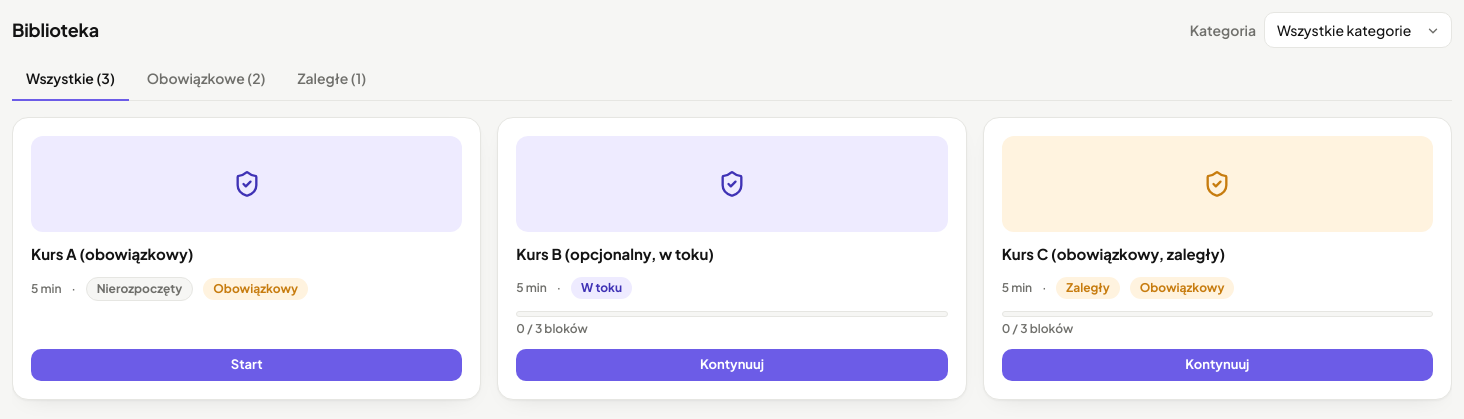
it: CourseLibrary - filtrowanie klienckie po zakładkach › zakładka "Obowiązkowe" pokazuje tylko mandatory=true
Click the tab "Obowiązkowe (2)" at (206, 80), box [133,58,280,101]
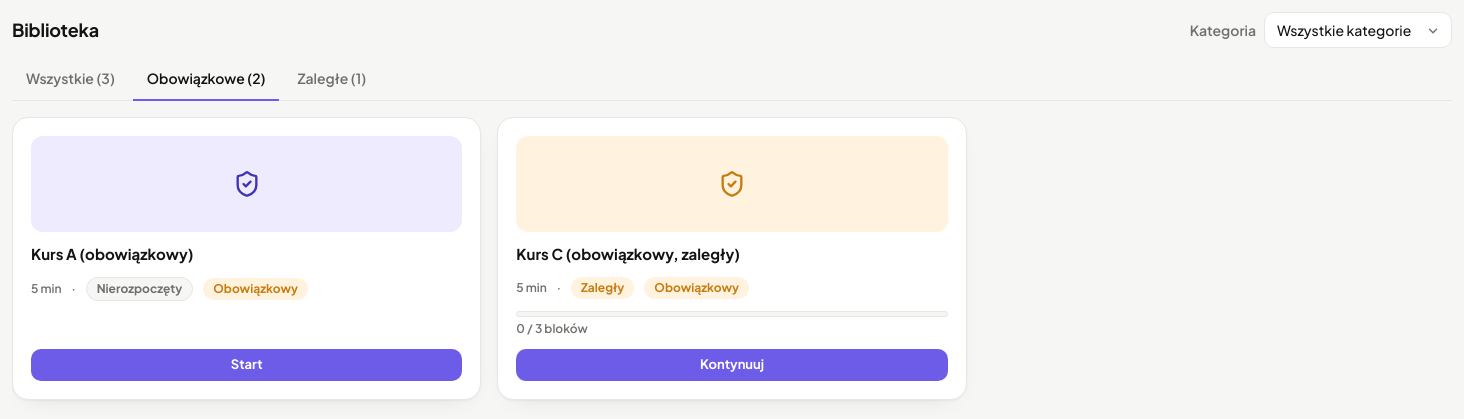
Check: the heading "Kurs A (obowiązkowy)" is shown, box [31,244,193,263]
Check: the heading "Kurs B (opcjonalny, w toku)" is gone
